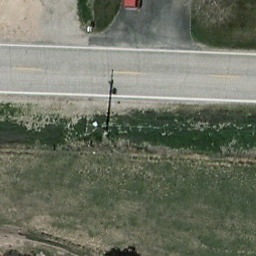car: (121, 0, 145, 10)
